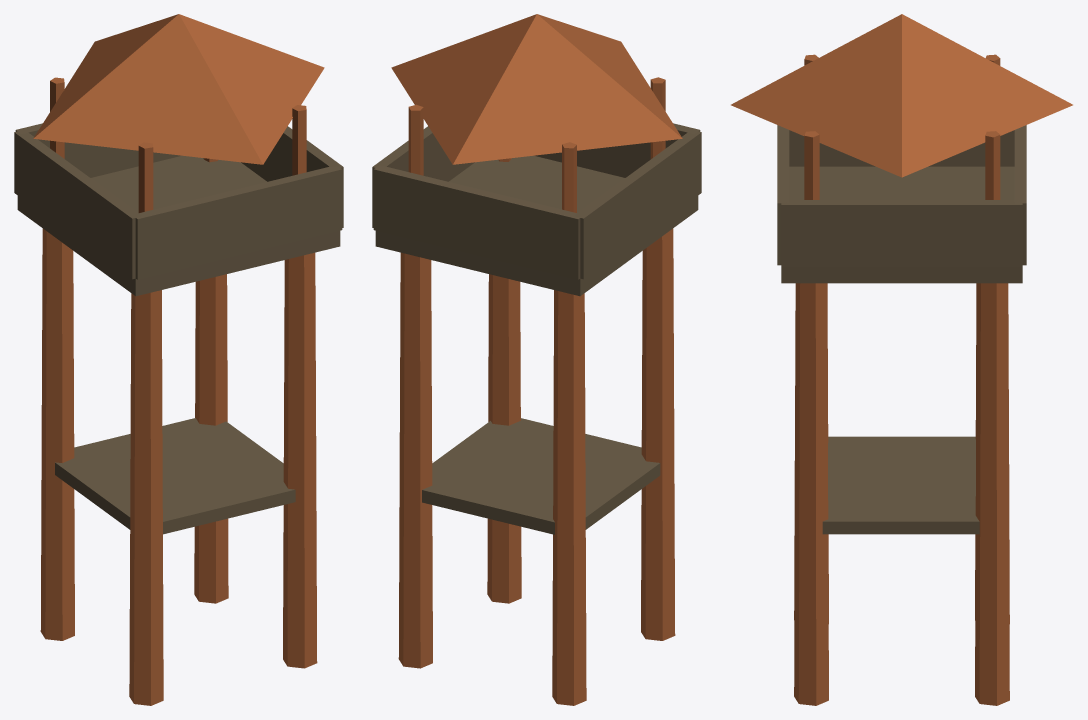
File: gnome_tower_broken.glb
The picture shows the model from 3 angles, left to right: view 1: azimuth 30°, elevation 25°; view 2: azimuth 150°, elevation 25°; view 3: azimuth 270°, elevation 25°; orthographic projection. The views are drawn at different scales.
Visible parts, largest first — view 1: gnome_tower_piece3, gnome_tower_piece6, gnome_tower_piece9, gnome_tower_piece2, gnome_tower_piece1, gnome_tower_piece4, gnome_tower_piece8, gnome_tower_piece11, gnome_tower_piece0, gnome_tower_piece10, gnome_tower_piece7, gnome_tower_piece12 (+1 smaller); view 2: gnome_tower_piece3, gnome_tower_piece6, gnome_tower_piece7, gnome_tower_piece1, gnome_tower_piece5, gnome_tower_piece9, gnome_tower_piece8, gnome_tower_piece4, gnome_tower_piece11, gnome_tower_piece2, gnome_tower_piece0, gnome_tower_piece12 (+1 smaller); view 3: gnome_tower_piece3, gnome_tower_piece4, gnome_tower_piece2, gnome_tower_piece7, gnome_tower_piece6, gnome_tower_piece8, gnome_tower_piece9, gnome_tower_piece1, gnome_tower_piece5, gnome_tower_piece0.
Boxes of the visible parts, x1=… form: gnome_tower_piece3: x1=40, y1=392, x2=317, y2=705; gnome_tower_piece6: x1=33, y1=14, x2=282, y2=268; gnome_tower_piece9: x1=49, y1=198, x2=247, y2=430; gnome_tower_piece2: x1=201, y1=106, x2=343, y2=387; gnome_tower_piece1: x1=14, y1=20, x2=158, y2=395; gnome_tower_piece4: x1=185, y1=28, x2=324, y2=197; gnome_tower_piece8: x1=42, y1=318, x2=316, y2=437; gnome_tower_piece11: x1=102, y1=401, x2=162, y2=608; gnome_tower_piece0: x1=88, y1=46, x2=224, y2=361; gnome_tower_piece10: x1=111, y1=191, x2=307, y2=359; gnome_tower_piece7: x1=90, y1=32, x2=224, y2=295; gnome_tower_piece12: x1=85, y1=53, x2=138, y2=192; gnome_tower_piece3: x1=398, y1=364, x2=675, y2=705; gnome_tower_piece6: x1=494, y1=14, x2=682, y2=240; gnome_tower_piece7: x1=372, y1=59, x2=492, y2=372; gnome_tower_piece1: x1=490, y1=49, x2=618, y2=456; gnome_tower_piece5: x1=481, y1=75, x2=580, y2=435; gnome_tower_piece9: x1=605, y1=123, x2=701, y2=362; gnome_tower_piece8: x1=399, y1=281, x2=583, y2=510; gnome_tower_piece4: x1=386, y1=28, x2=522, y2=196; gnome_tower_piece11: x1=631, y1=339, x2=674, y2=540; gnome_tower_piece2: x1=399, y1=153, x2=555, y2=439; gnome_tower_piece0: x1=399, y1=146, x2=493, y2=464; gnome_tower_piece12: x1=479, y1=160, x2=524, y2=282; gnome_tower_piece3: x1=794, y1=370, x2=1009, y2=705; gnome_tower_piece4: x1=785, y1=55, x2=994, y2=354; gnome_tower_piece2: x1=777, y1=127, x2=1008, y2=481; gnome_tower_piece7: x1=944, y1=62, x2=1072, y2=388; gnome_tower_piece6: x1=731, y1=14, x2=948, y2=199; gnome_tower_piece8: x1=795, y1=298, x2=1009, y2=547; gnome_tower_piece9: x1=789, y1=130, x2=948, y2=336; gnome_tower_piece1: x1=938, y1=35, x2=1014, y2=346; gnome_tower_piece5: x1=965, y1=52, x2=1026, y2=297; gnome_tower_piece0: x1=976, y1=146, x2=1026, y2=495.
Size of the model in its own units: 1.71 by 3.55 by 1.71.
